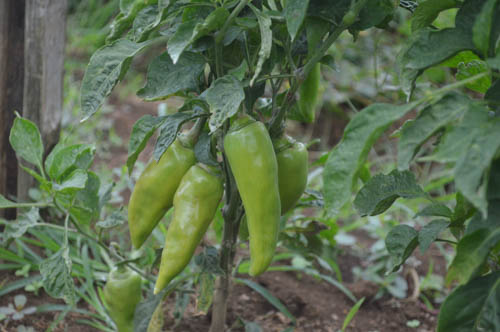ChiliPepper: (153, 164, 220, 298), (224, 125, 278, 280), (128, 141, 190, 249), (270, 140, 312, 218), (103, 271, 141, 327), (294, 62, 319, 124)
